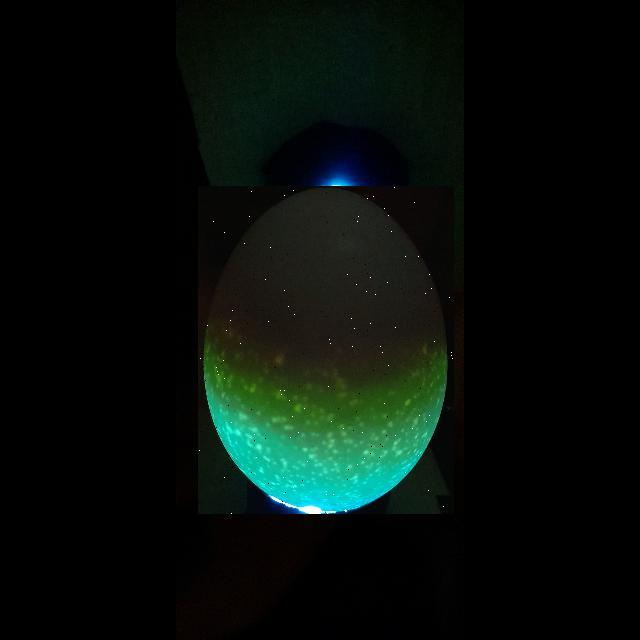Infertile: (198, 186, 454, 514)
